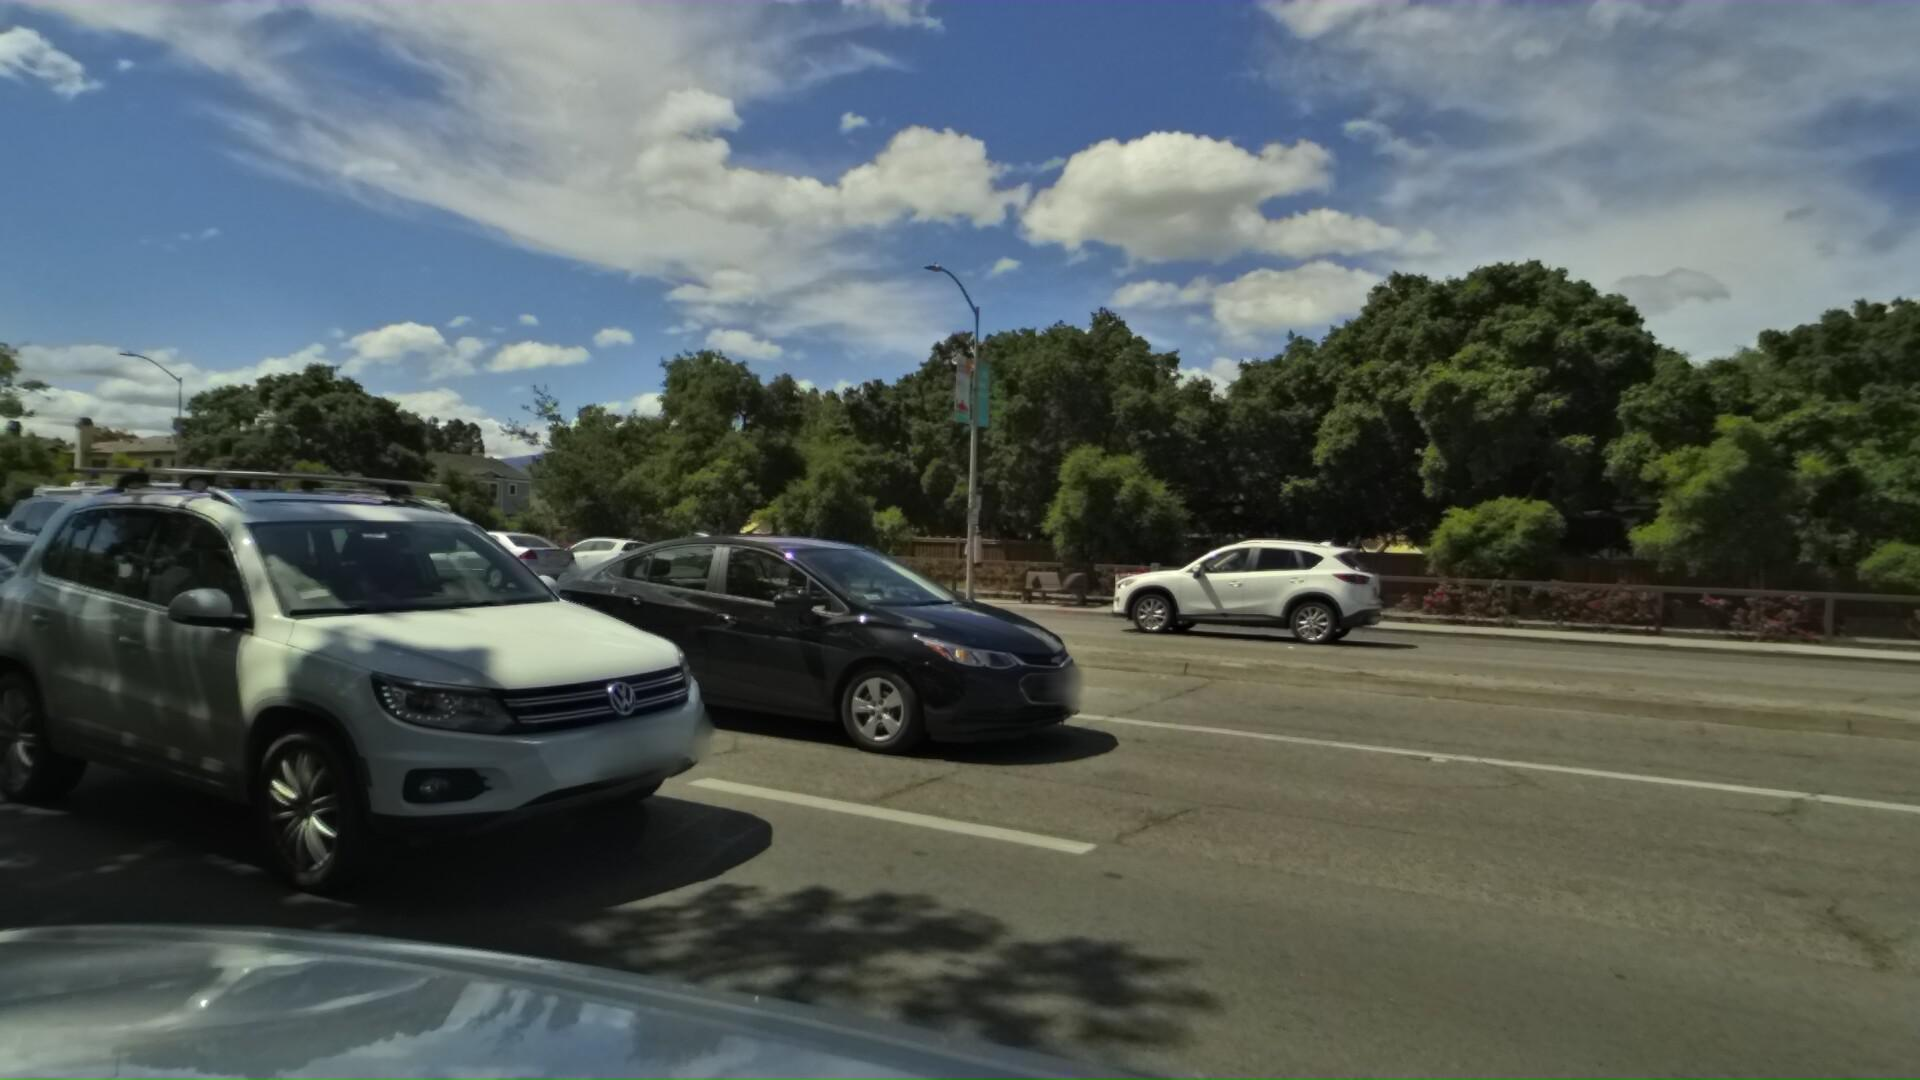bus: (253, 477, 469, 576), (21, 468, 208, 556)
car: (0, 435, 782, 953), (506, 525, 1110, 785), (0, 483, 297, 647), (1055, 527, 1350, 646), (0, 469, 65, 704), (382, 526, 576, 596), (538, 531, 667, 588), (0, 500, 104, 560), (0, 518, 37, 549)
